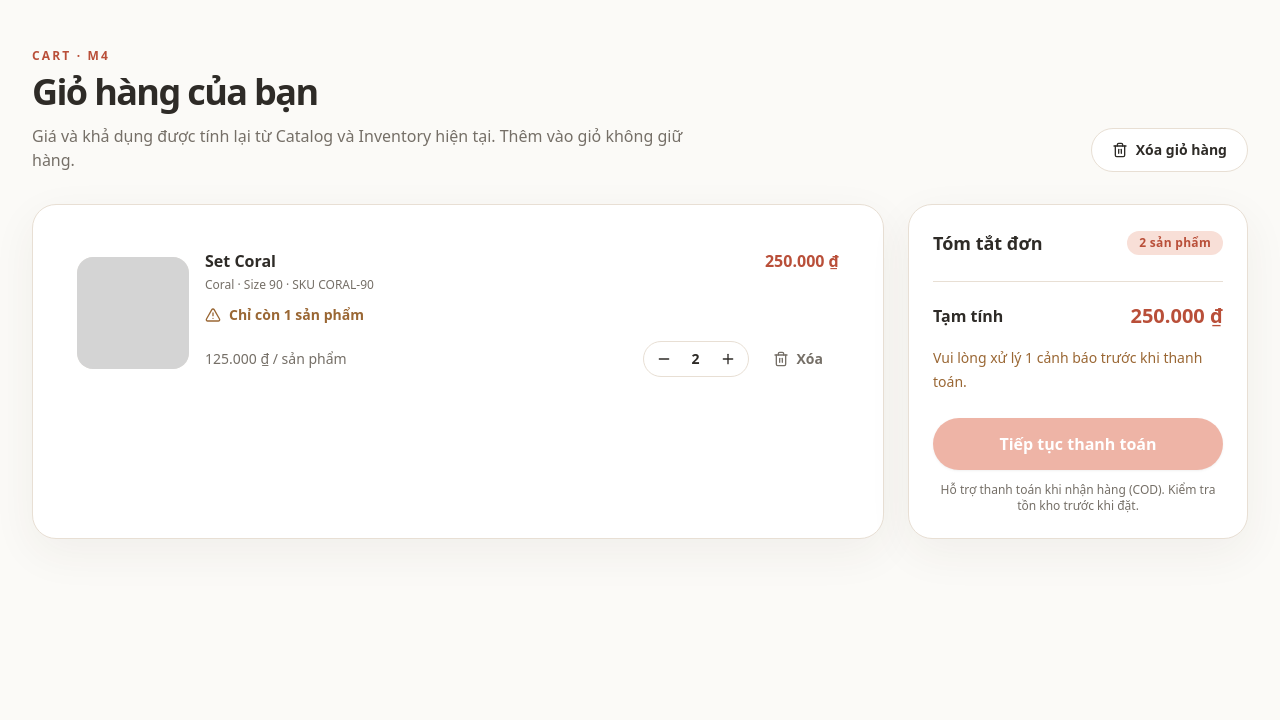
Test: CartView › sends bounded quantity mutations and updates from the returned snapshot
The width and height of the screenshot is (1280, 720).
Check: the link "Set Coral" is shown, box 205,250 -> 276,272
Click the button named "Giảm Set Coral". click: (664, 359)
box: 648,343 -> 680,375
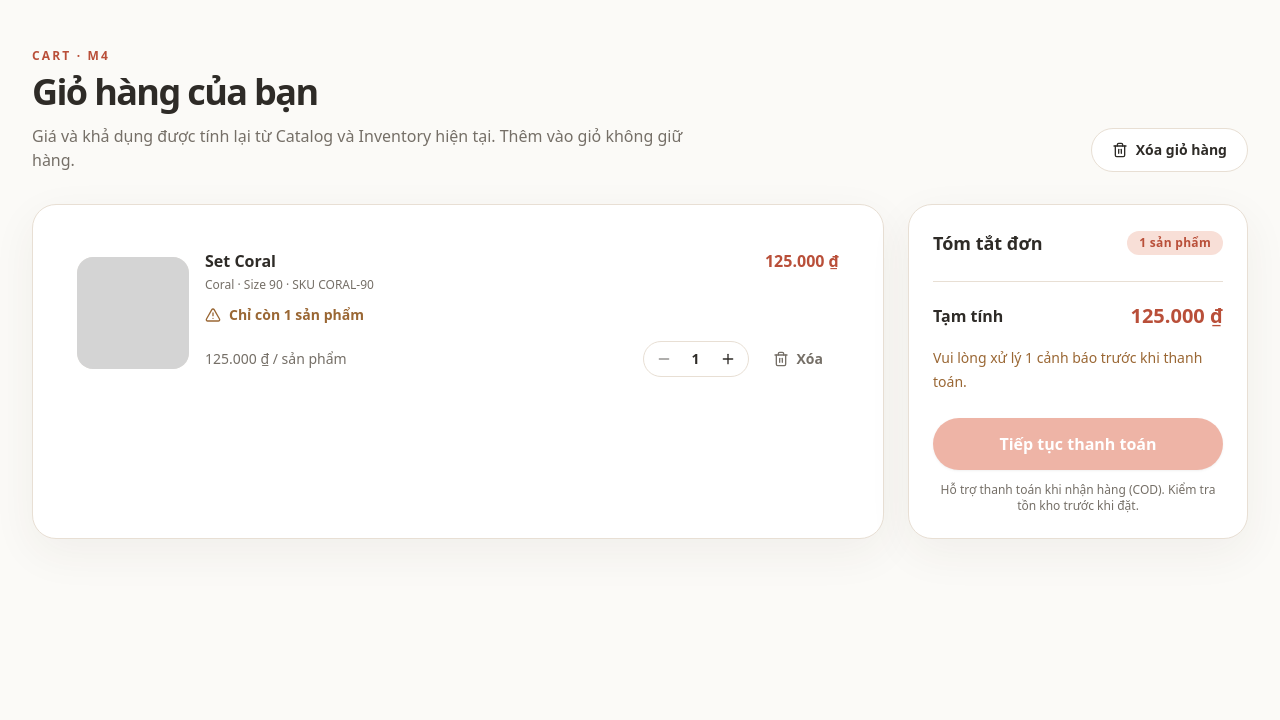
Check: the text "125.000 ₫" in the row of "Set Coral" is shown, box 765,250 -> 839,272
